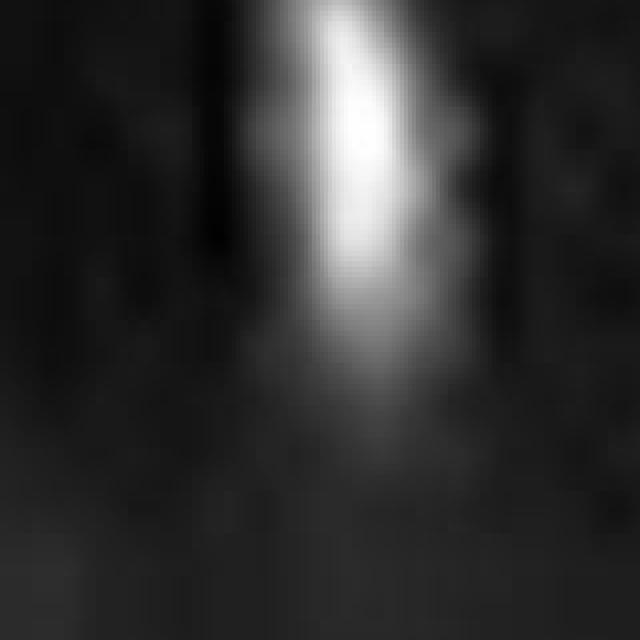person: (257, 1, 477, 406)
